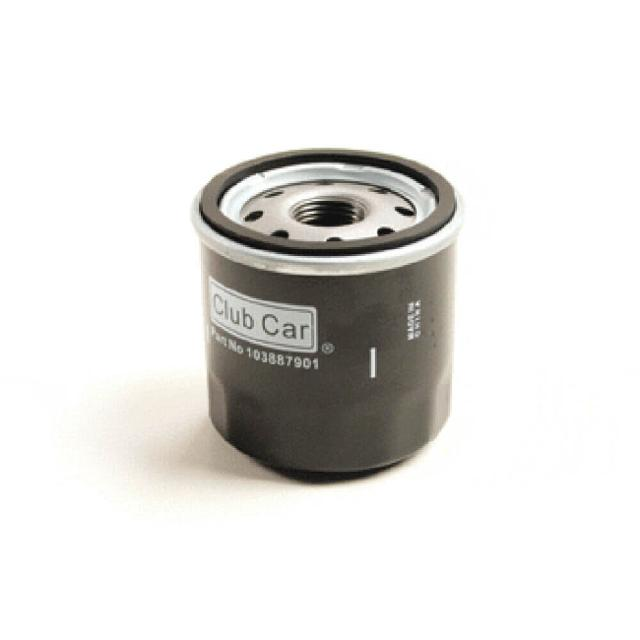oil_filter: (190, 135, 467, 493)
